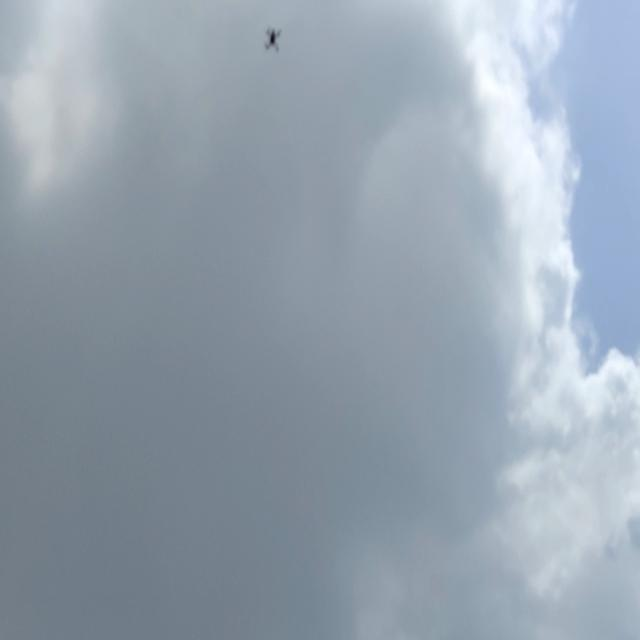drone: (257, 21, 291, 59)
